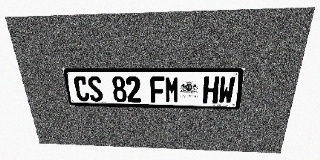2: (126, 76, 141, 102)
8: (111, 76, 127, 102)
C: (73, 76, 90, 101)
F: (150, 76, 165, 103)
H: (203, 76, 220, 103)
M: (165, 76, 180, 103)
S: (87, 76, 104, 102)
W: (218, 76, 236, 104)
